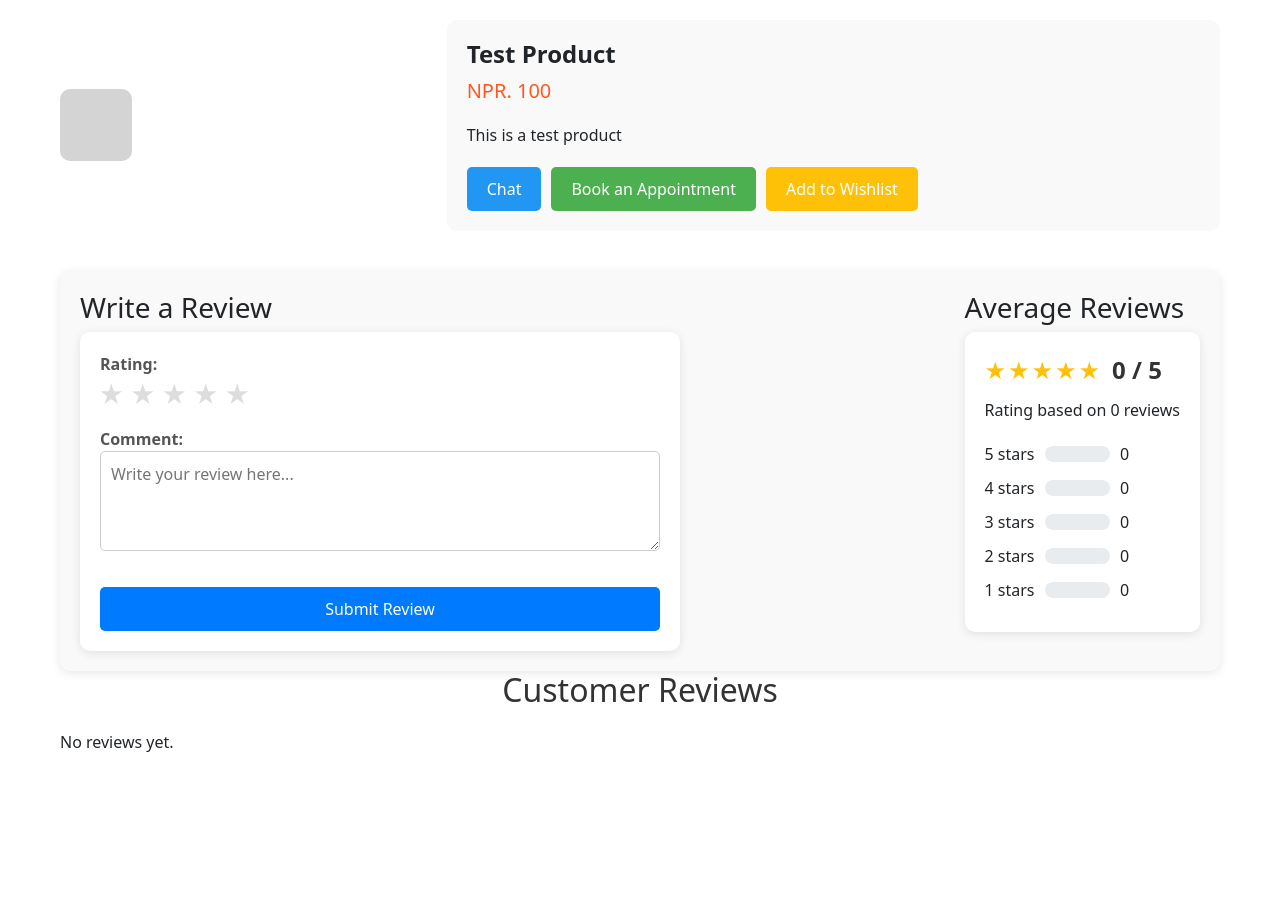
Test case: ProductPage Component Tests › shows calendar when "Book an Appointment" button is clicked
The image size is (1280, 900).
Check: the heading "Test Product" is shown, box left=467, top=37, right=616, bottom=70
# Simulate clicking the "Book an Appointment" button
Click the button "Book an Appointment" at (654, 189), box left=551, top=167, right=756, bottom=211
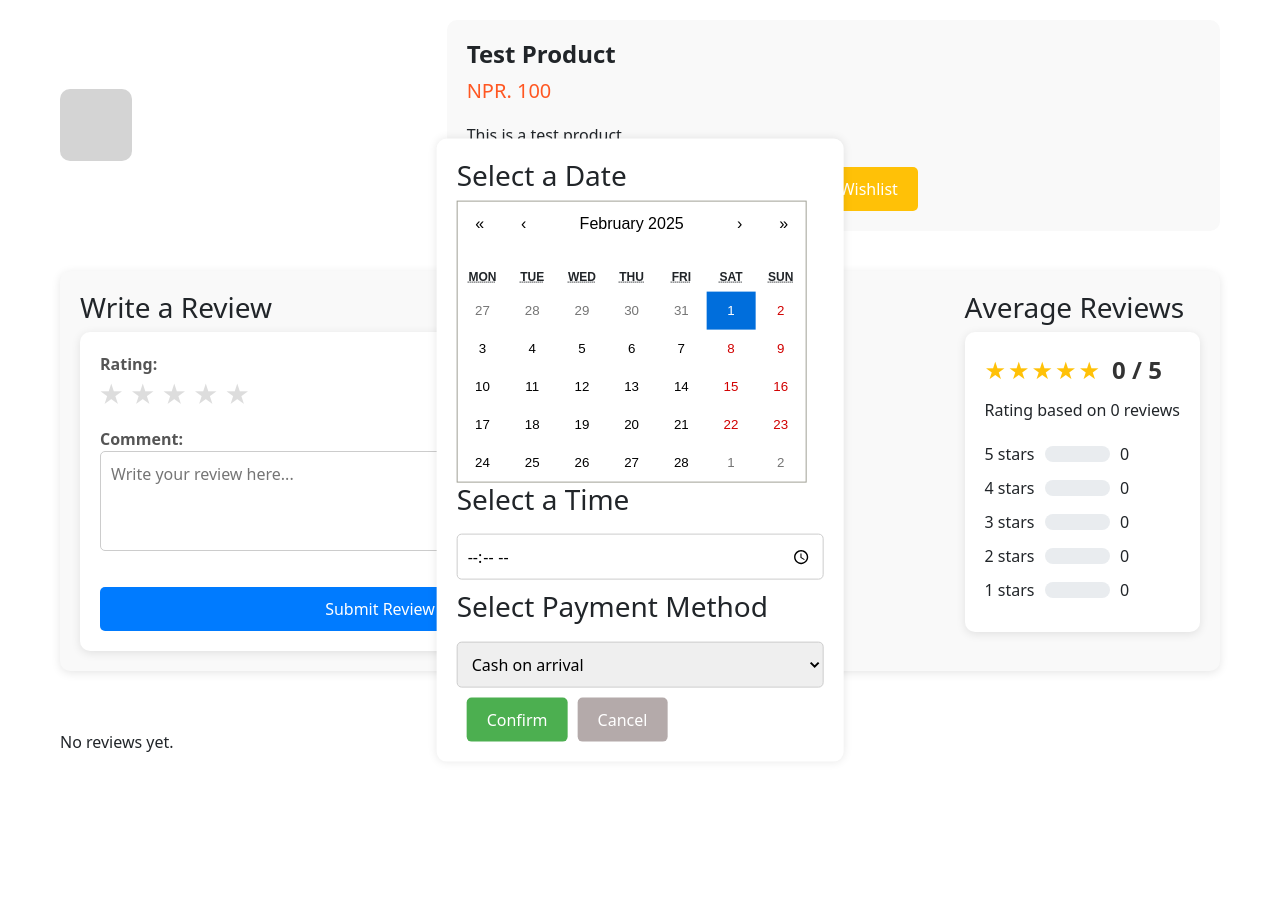
Check: the heading "Select a Date" is shown, box left=457, top=156, right=627, bottom=194
